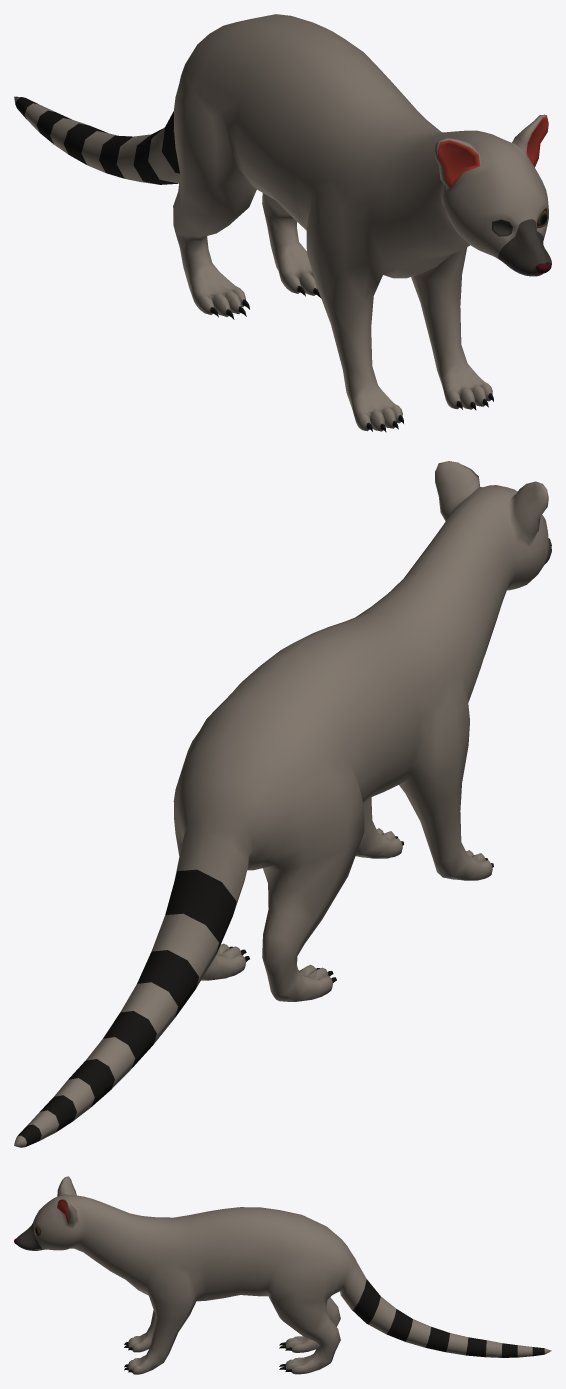
File: genet.obj
The picture shows the model from 3 angles, top to bottom: view 1: azimuth 30°, elevation 25°; view 2: azimuth 150°, elevation 25°; view 3: azimuth 270°, elevation 25°; orthographic projection. The views are drawn at different scales.
Visible parts, largest first — view 1: genet; view 2: genet; view 3: genet.
Part boxes in pixels (bbox=[...]): genet: bbox=[14, 14, 551, 432]; genet: bbox=[14, 461, 551, 1147]; genet: bbox=[14, 1176, 551, 1374].
Bounding box in the file's own units: 0.2597 × 0.5128 × 1.46.
